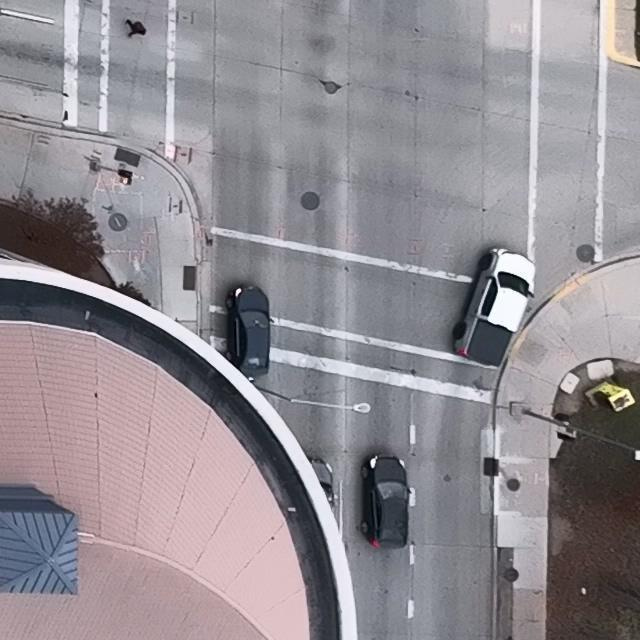car: (452, 249, 535, 368), (361, 454, 412, 547), (226, 285, 276, 377)
